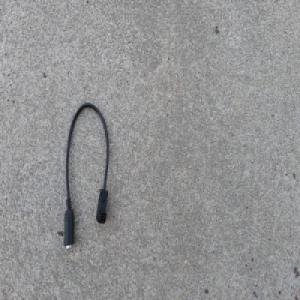Wire: (63, 100, 110, 251)
